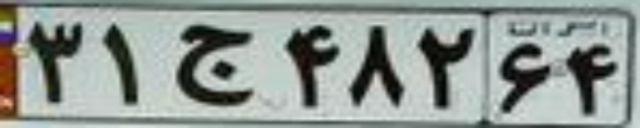1: (97, 22, 143, 104)
2: (414, 25, 475, 108)
3: (24, 21, 86, 103)
4: (283, 24, 337, 105), (568, 43, 617, 113)
6: (496, 42, 557, 113)
8: (350, 23, 405, 105)
jim: (174, 23, 260, 104)
